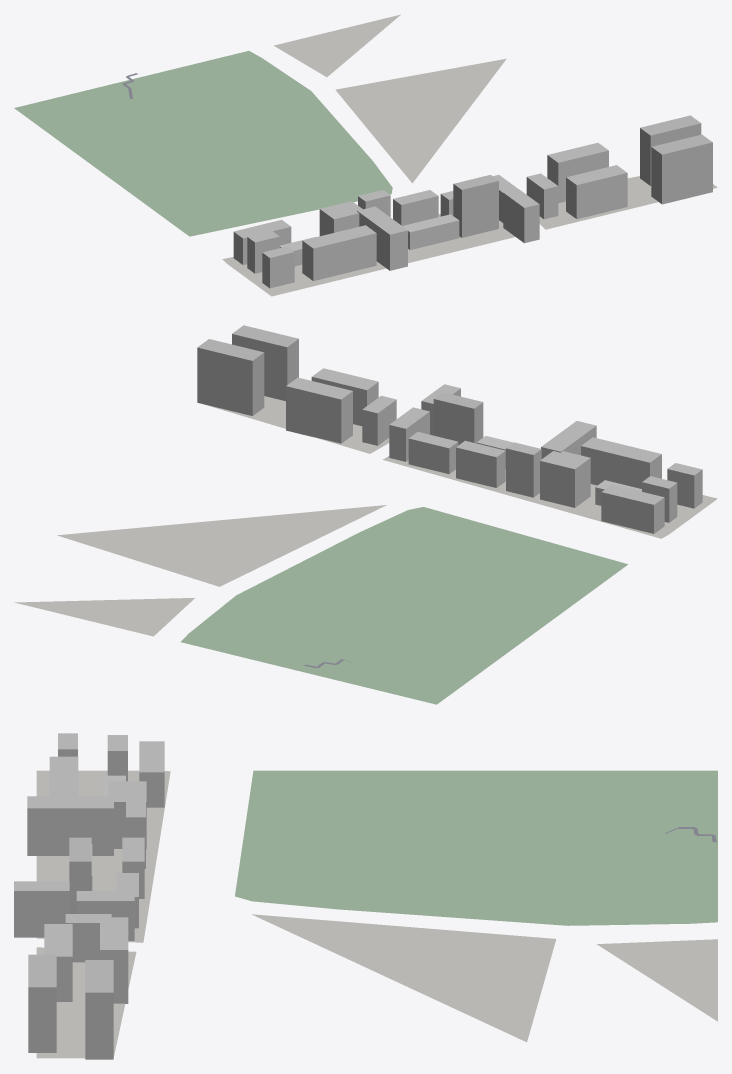
Rendered from 137_114_mid.glb.
3 renders of one model, top to bottom at view 1: azimuth 30°, elevation 25°; view 2: azimuth 150°, elevation 25°; view 3: azimuth 270°, elevation 25°, orthographic. The views are drawn at different scales.
Bounding box in the file's own units: 502 × 55.21 × 517.
